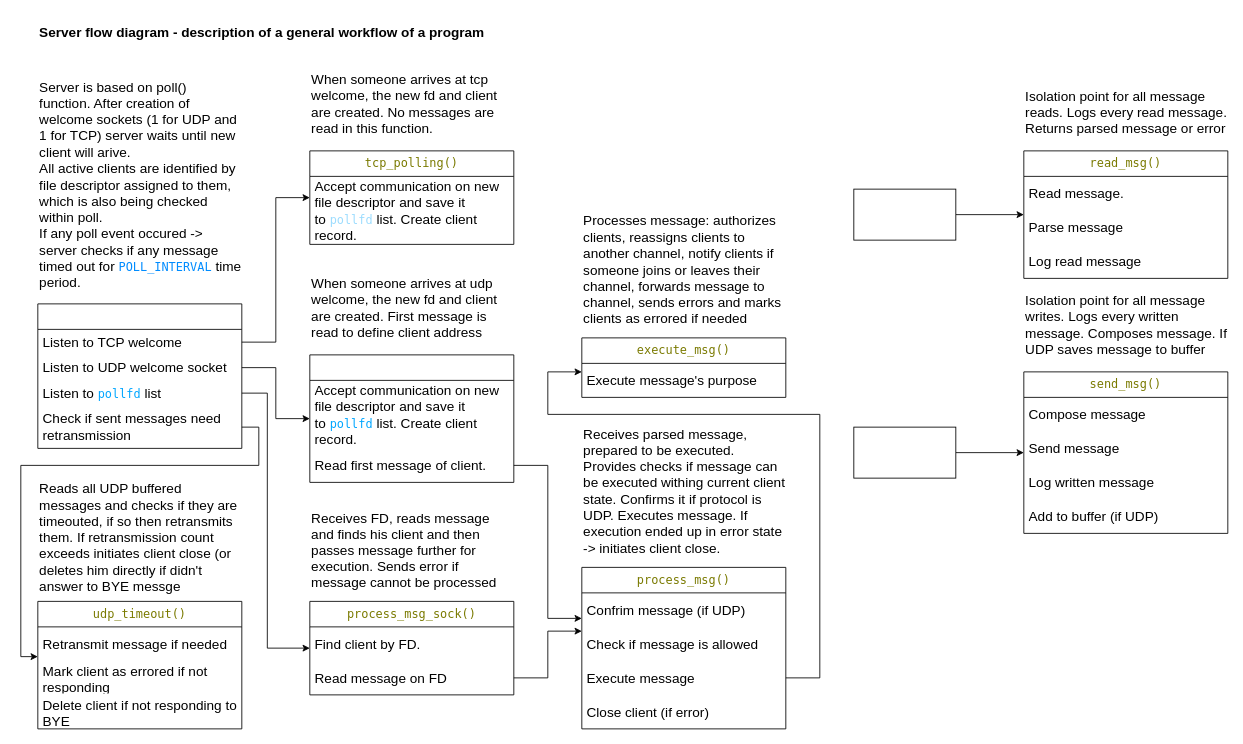
Image size: 1243x744. Some labels were removed from this diagram. The shapes that lost their labels are listed below. From the top down, each one's box as (x1, y1, x2, y2) in pixels, then its label:
(853, 188, 956, 240): Any message read
(37, 303, 242, 448): main()
(309, 354, 514, 482): udp_polling()
(853, 426, 956, 478): Any message send
